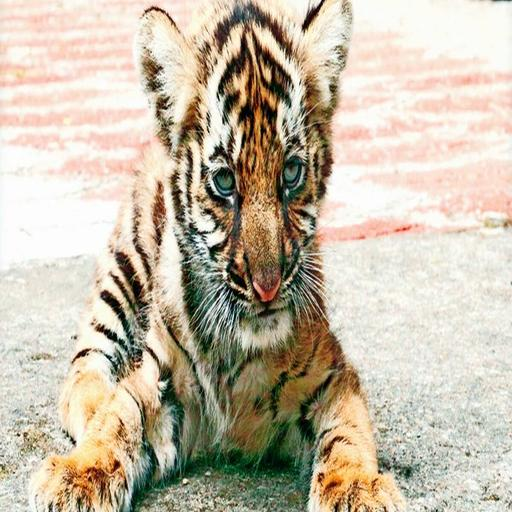Tiger: (42, 0, 420, 512)
